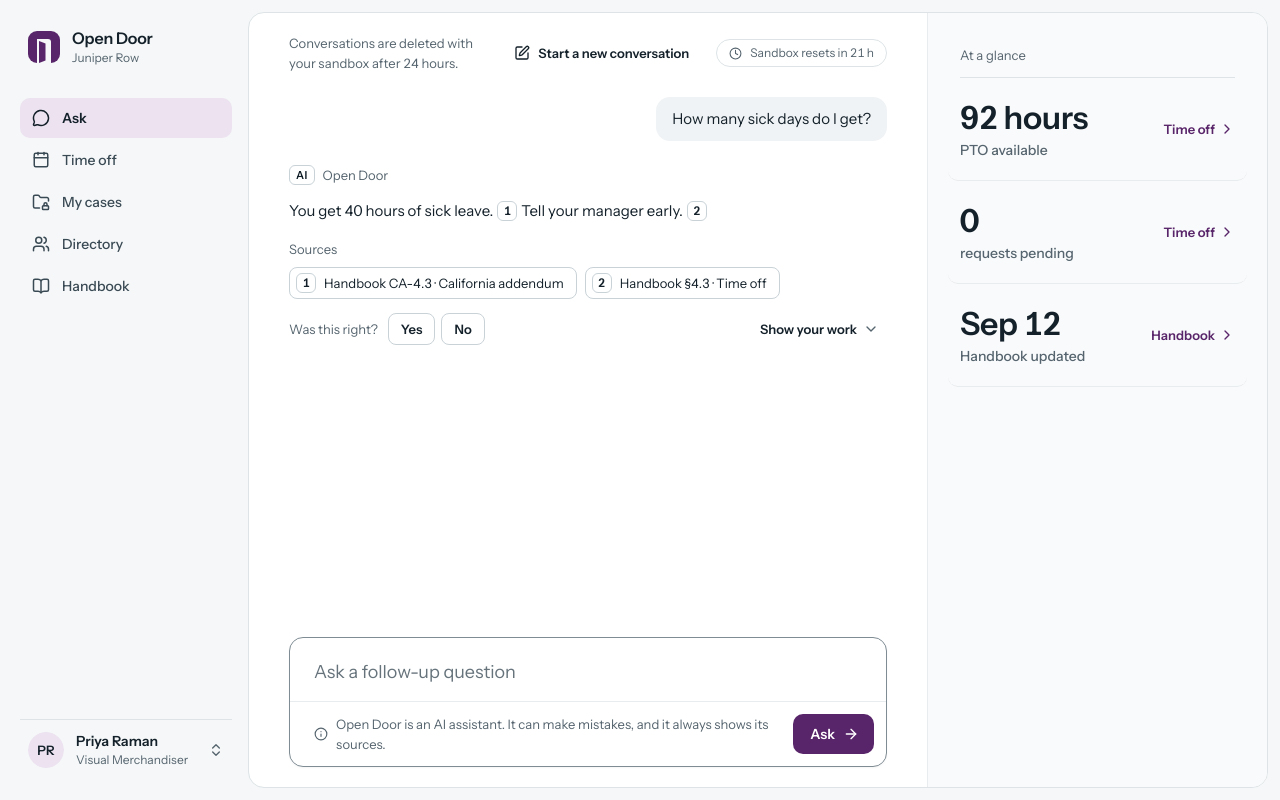
the docked panel (a wide window) › opens from a marker: the URL names the passage, the rail gives way, and focus is on the title
This screenshot has width=1280, height=800.
Expected: the element named "Sandbox status" is shown, [927,13,1267,787]
Click the button named "Source 1: Handbook CA-4.3, California addendum".
click(507, 211)  # box [497,201,517,221]
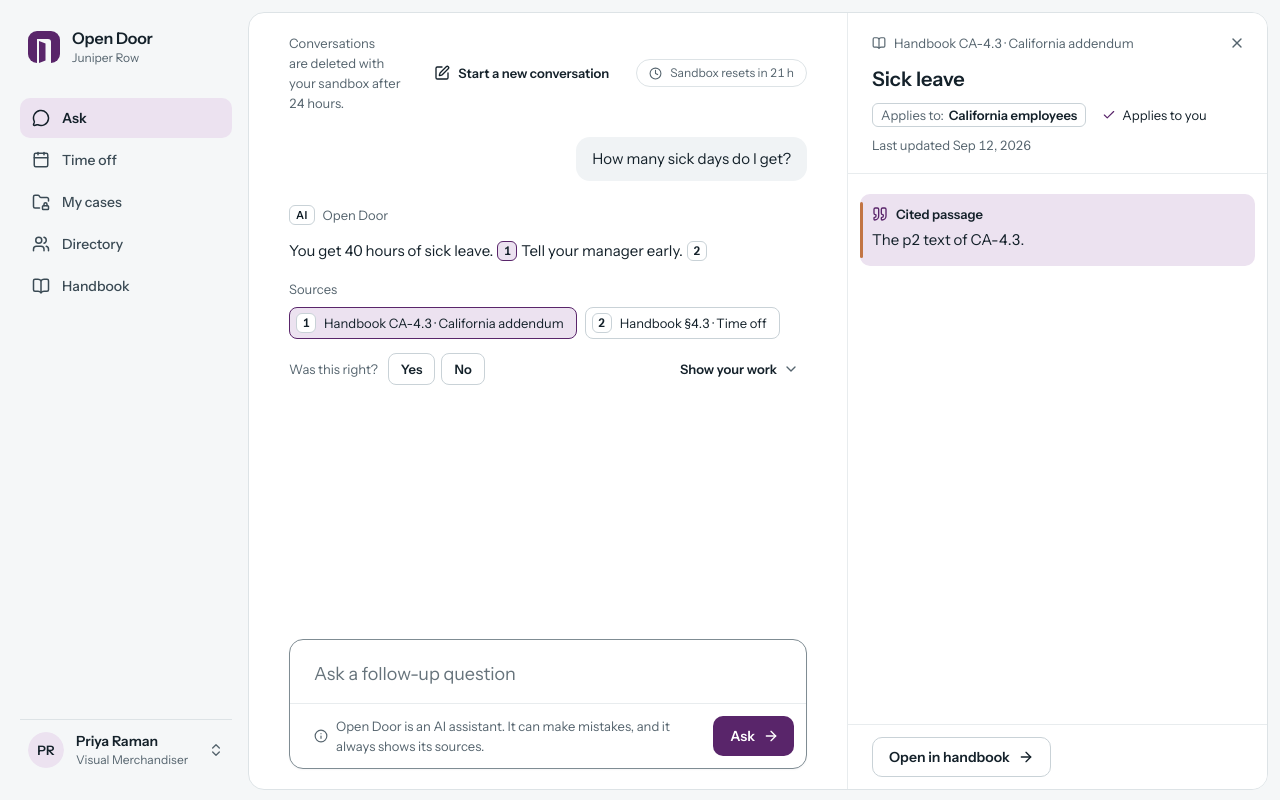
Expected: the button "Start a new conversation" is shown, [423,57,620,89]
Now the text "The p2 text of CA-4.3." is shown, box [872,230,1024,249]
Now the button named "Source 1: Handbook CA-4.3, California addendum" is expanded, box [497,241,517,261]
